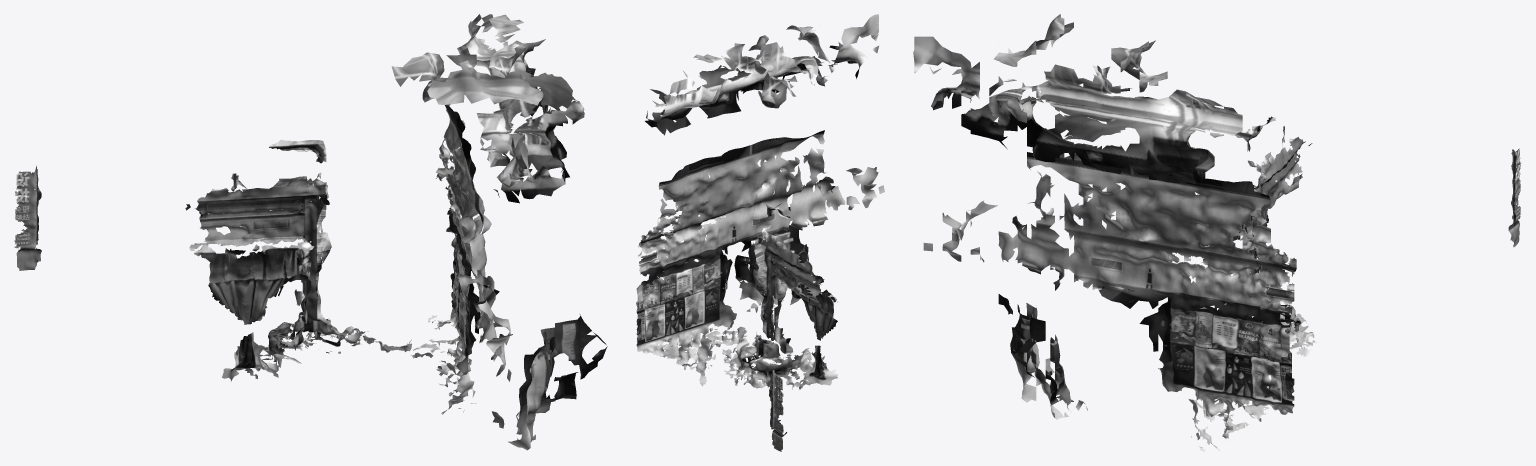
Rendered from 35520-Di1031-tex.fbx.
3 renders of one model, left to right at view 1: azimuth 30°, elevation 25°; view 2: azimuth 150°, elevation 25°; view 3: azimuth 270°, elevation 25°, orthographic. The views are drawn at different scales.
Visible parts, largest first — view 1: Model; view 2: Model; view 3: Model.
Boxes of the visible parts, x1,y1,x2,y2 form: Model: (14,14,607,450); Model: (636,14,884,451); Model: (913,14,1520,451).
Size of the model in its own units: 8.48 by 9.75 by 13.25.
Materials: 1 (1 with a texture image).
